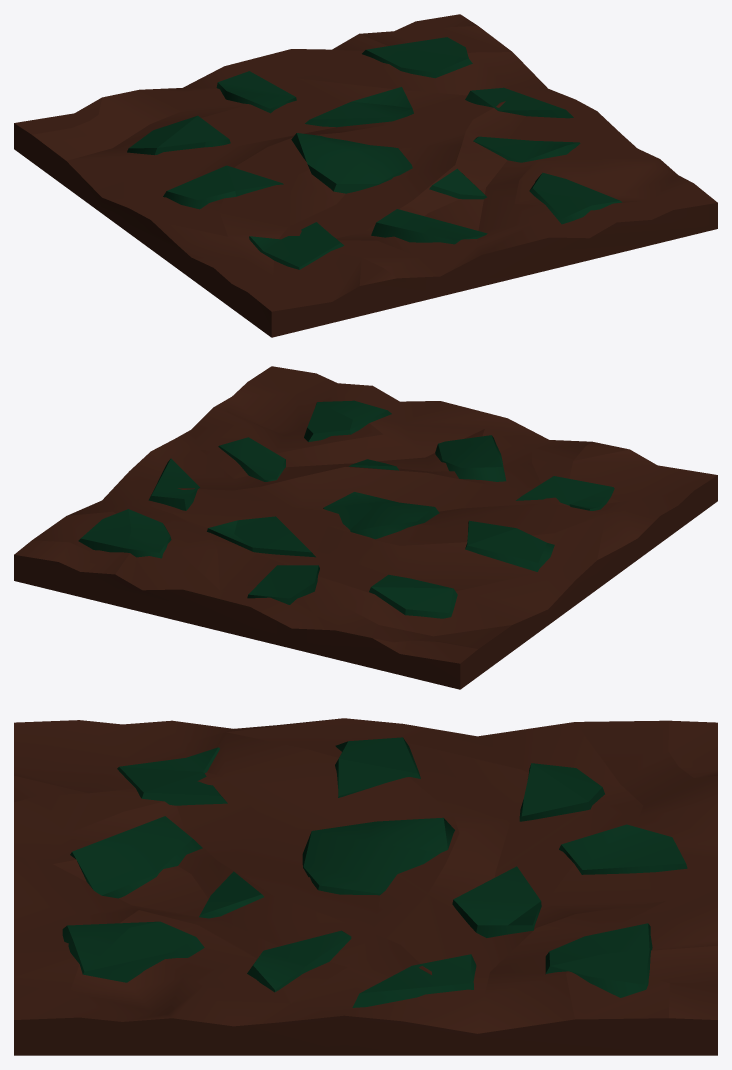
File: Ground_Base_C.fbx
The picture shows the model from 3 angles, top to bottom: view 1: azimuth 30°, elevation 25°; view 2: azimuth 150°, elevation 25°; view 3: azimuth 270°, elevation 25°; orthographic projection. The views are drawn at different scales.
Visible parts, largest first — view 1: Ground_Base_C; view 2: Ground_Base_C; view 3: Ground_Base_C.
Part boxes in pixels (x1,y1,x2,y2): Ground_Base_C: (14,14,717,337); Ground_Base_C: (14,366,717,689); Ground_Base_C: (14,718,717,1055).
Size of the model in its own units: 147 by 14.26 by 147.
